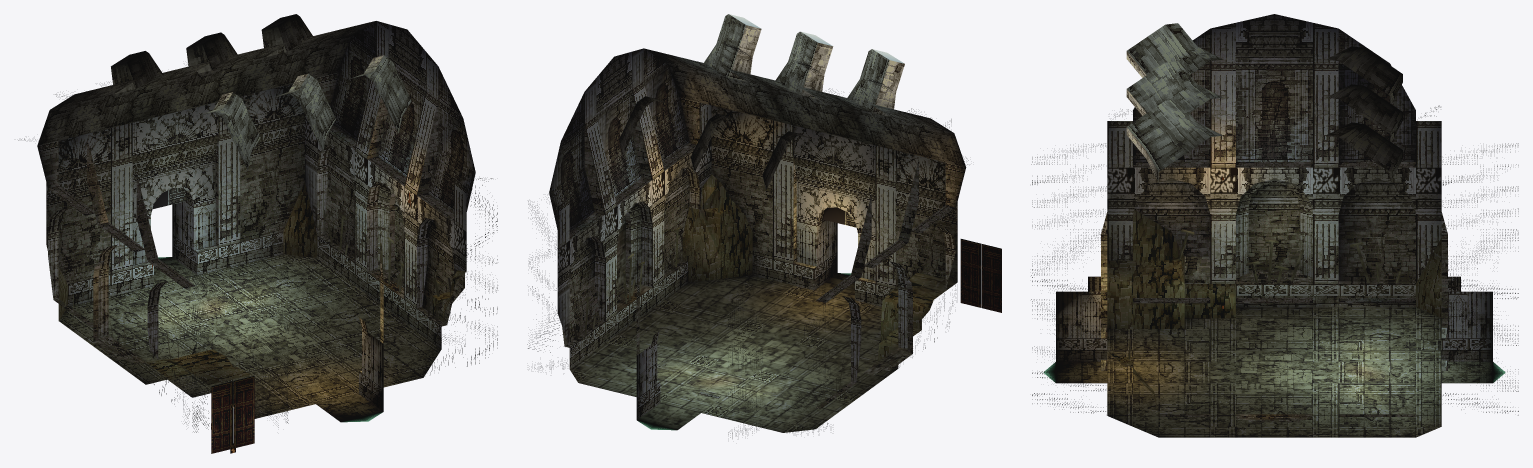
Rendered from MAP061.gltf.
The picture shows the model from 3 angles, left to right: view 1: azimuth 30°, elevation 25°; view 2: azimuth 150°, elevation 25°; view 3: azimuth 270°, elevation 25°; orthographic projection. The views are drawn at different scales.
Size of the model in its own units: 192 by 172 by 243.
76 materials, 76 textured.
